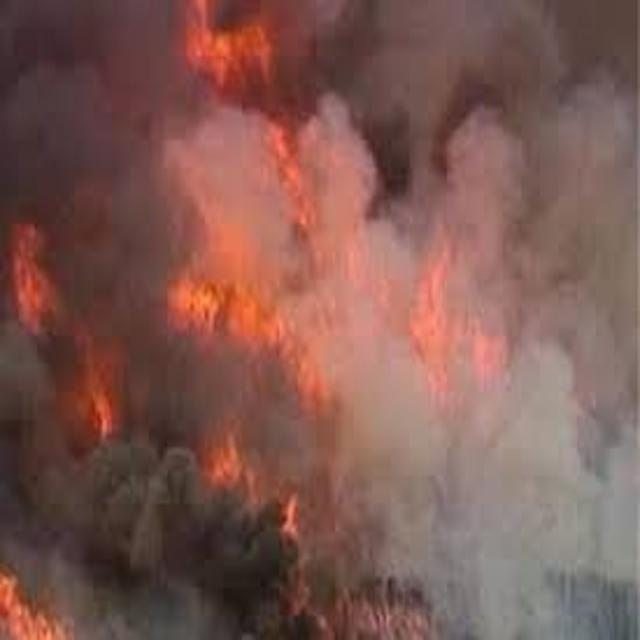Fire: (168, 248, 336, 414), (412, 225, 468, 408), (185, 0, 280, 92), (6, 217, 70, 333), (264, 119, 323, 234), (0, 561, 68, 640)
Smoke: (336, 407, 636, 640), (362, 0, 640, 222), (71, 461, 296, 640), (0, 0, 184, 216), (72, 218, 166, 459), (336, 222, 414, 412), (0, 356, 66, 560), (186, 102, 261, 240)
